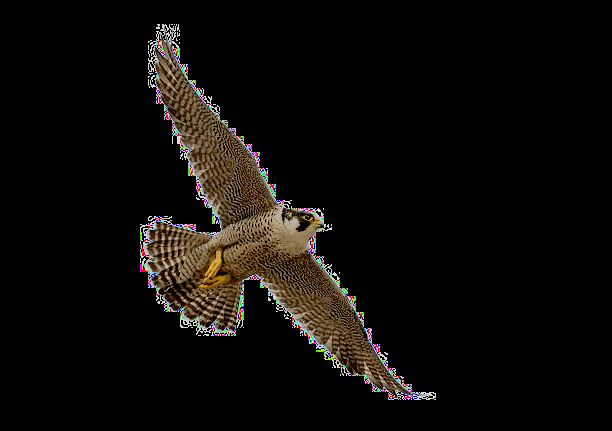Bird: (131, 21, 422, 402)
